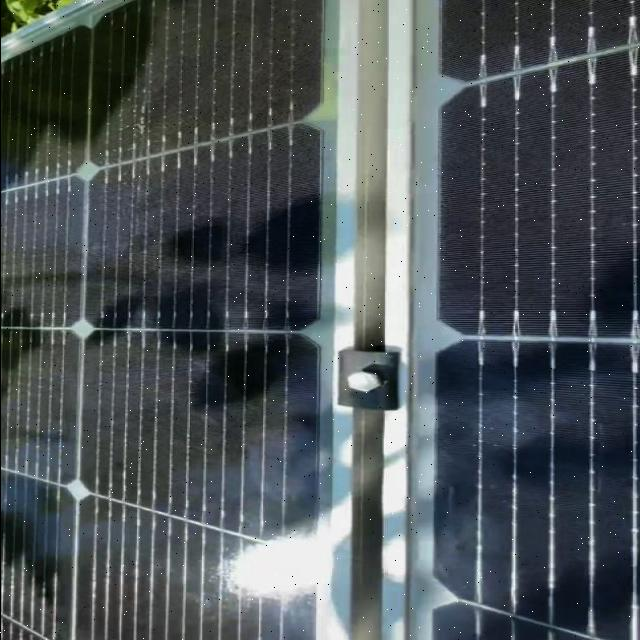Normal Solar Panel: (0, 0, 323, 640), (433, 0, 640, 640)
